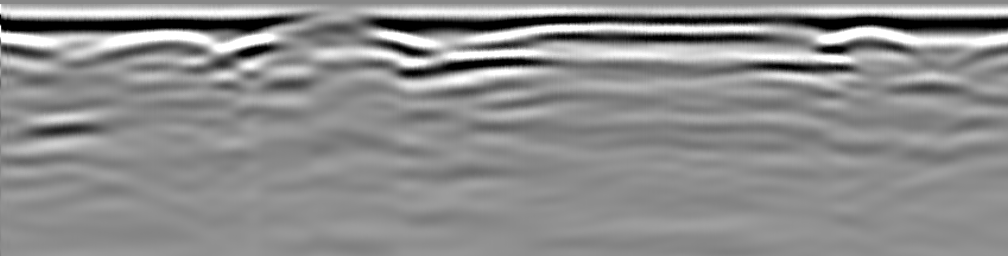pipe: (818, 13, 923, 54), (277, 14, 391, 46)
steel: (87, 29, 227, 63)
